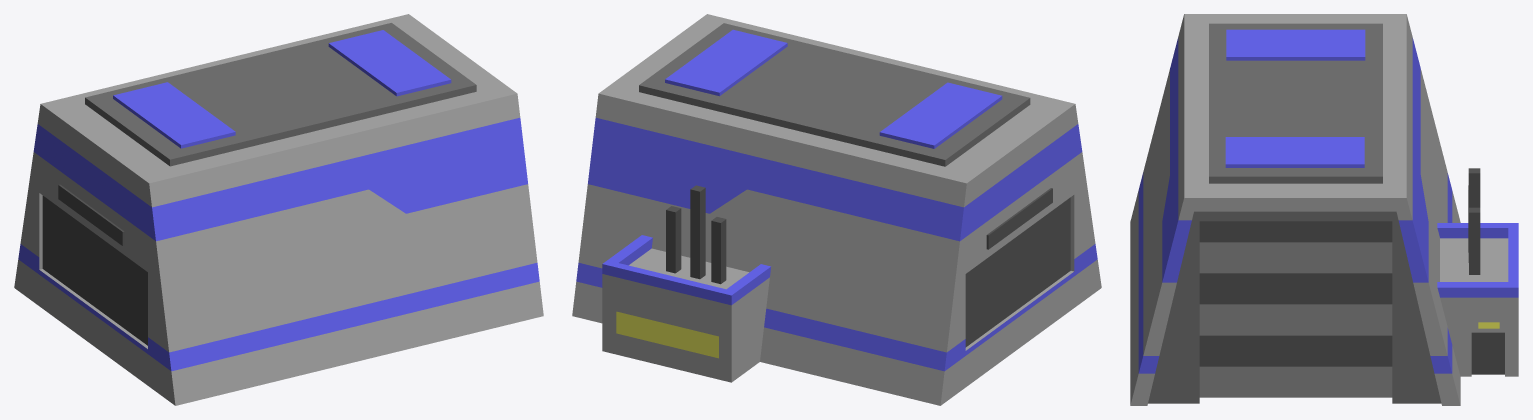
Rendered from Blue Hanger Closed.fbx.
The picture shows the model from 3 angles, left to right: view 1: azimuth 30°, elevation 25°; view 2: azimuth 150°, elevation 25°; view 3: azimuth 270°, elevation 25°; orthographic projection. The views are drawn at different scales.
Parts seen in each view (by area): view 1: Group_19_1; view 2: Group_19_1; view 3: Group_19_1.
Part boxes in pixels (left/top/right/bottom): Group_19_1: left=14, top=14, right=543, bottom=405; Group_19_1: left=572, top=14, right=1101, bottom=405; Group_19_1: left=1130, top=14, right=1518, bottom=405.
Bounding box in the file's own units: 53.46 × 29.48 × 47.45.
